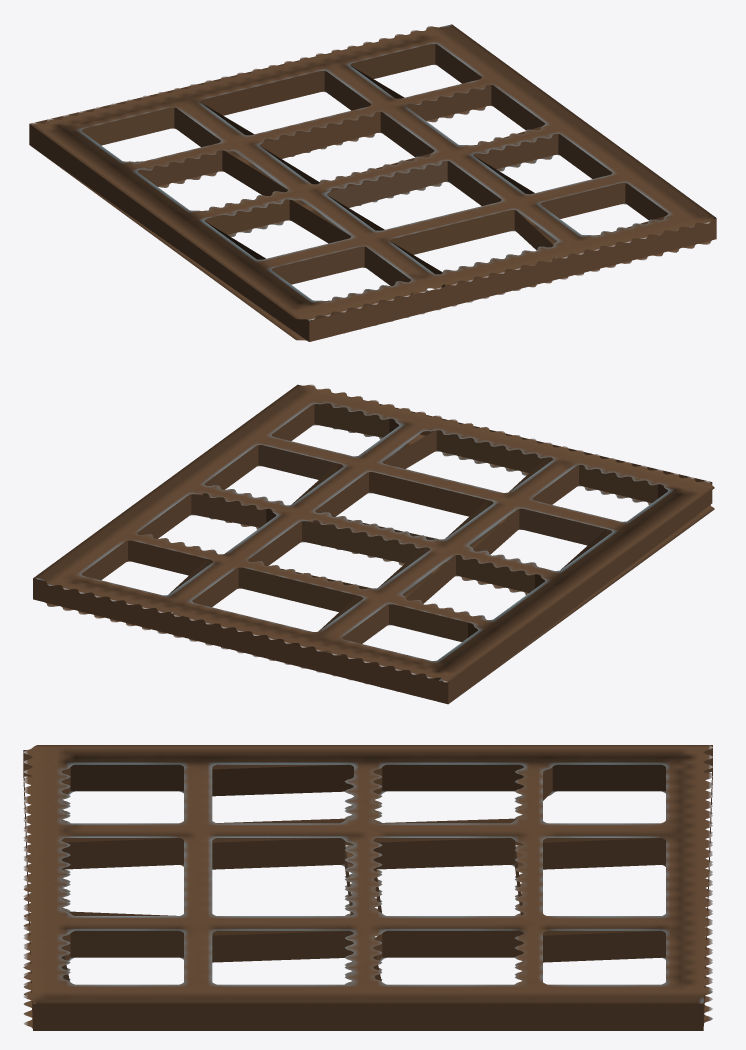
The model's file is pz_native_fixtures_windows_wood_29_frame.obj.
3 renders of one model, top to bottom at view 1: azimuth 30°, elevation 25°; view 2: azimuth 150°, elevation 25°; view 3: azimuth 270°, elevation 25°, orthographic. The views are drawn at different scales.
Parts seen in each view (by area): view 1: pz_native_fixtures_windows_wood_29_frame; view 2: pz_native_fixtures_windows_wood_29_frame; view 3: pz_native_fixtures_windows_wood_29_frame.
Part boxes in pixels (x1=…): pz_native_fixtures_windows_wood_29_frame: x1=29, y1=24, x2=716, y2=341; pz_native_fixtures_windows_wood_29_frame: x1=33, y1=384, x2=714, y2=704; pz_native_fixtures_windows_wood_29_frame: x1=23, y1=745, x2=712, y2=1030.
Size of the model in its own units: 0.8594 by 0.04 by 0.9696.
1 material, 1 textured.
